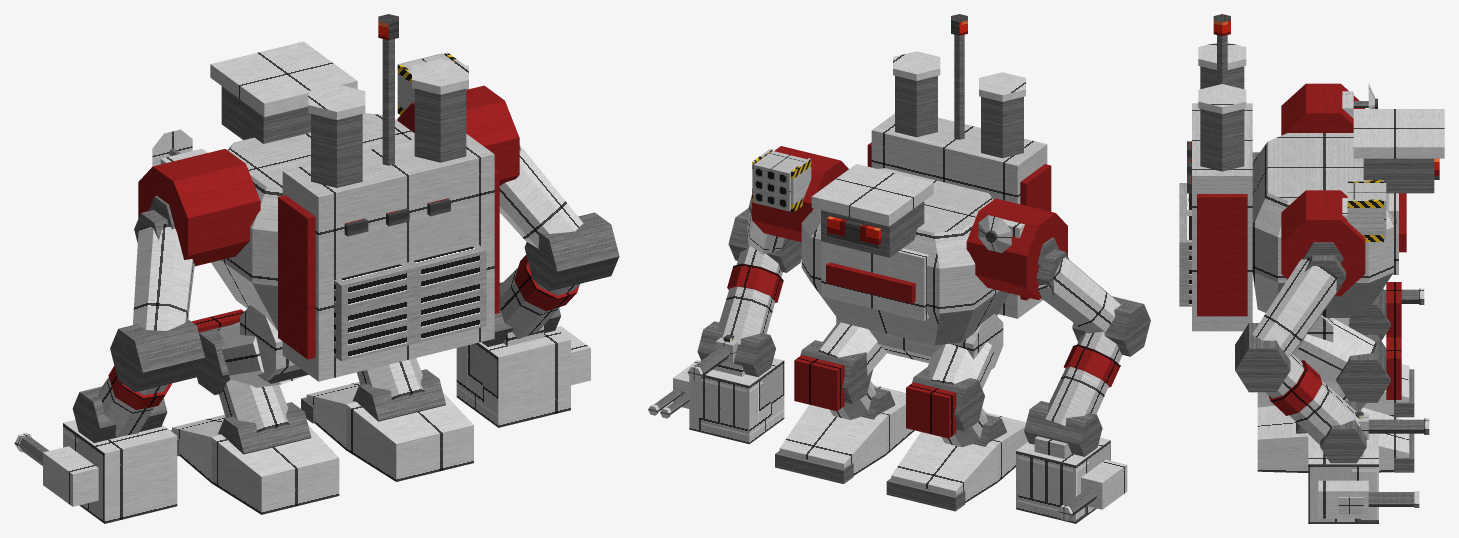
File: baboon.glb
The picture shows the model from 3 angles, left to right: view 1: azimuth 30°, elevation 25°; view 2: azimuth 150°, elevation 25°; view 3: azimuth 270°, elevation 25°; orthographic projection. The views are drawn at different scales.
Parts seen in each view (by area): view 1: rack.001, vent_block, foot, foot.001, pauldron, torso, brow, rack_stripe, upper_arm, fist_wrist, fist_wrist.001, elbow (+31 smaller); view 2: torso, rack.001, foot, foot.001, pauldron, brow, chest_plate, fist_front.001, upper_arm, fist_front, forearm, forearm.001 (+40 smaller); view 3: torso, rack_stripe.001, pauldron.001, rack.001, brow, upper_arm.001, foot.001, pauldron, elbow.001, flare_pod.001, forearm.001, thigh.001 (+29 smaller).
Part boxes in pixels (x1=…): rack.001: x1=282, y1=134, x2=494, y2=381; vent_block: x1=334, y1=245, x2=486, y2=361; foot: x1=172, y1=414, x2=339, y2=514; foot.001: x1=306, y1=382, x2=473, y2=481; pauldron: x1=138, y1=149, x2=260, y2=266; torso: x1=211, y1=113, x2=414, y2=330; brow: x1=210, y1=41, x2=357, y2=116; rack_stripe: x1=278, y1=195, x2=315, y2=359; upper_arm: x1=133, y1=224, x2=194, y2=330; fist_wrist: x1=104, y1=436, x2=177, y2=523; fist_wrist.001: x1=498, y1=340, x2=570, y2=427; elbow: x1=110, y1=318, x2=204, y2=392; torso: x1=801, y1=168, x2=1009, y2=345; rack.001: x1=871, y1=113, x2=1047, y2=318; foot: x1=891, y1=412, x2=1028, y2=502; foot.001: x1=779, y1=385, x2=914, y2=475; pauldron: x1=966, y1=198, x2=1067, y2=300; brow: x1=811, y1=164, x2=933, y2=226; chest_plate: x1=821, y1=241, x2=928, y2=321; fist_front.001: x1=689, y1=375, x2=749, y2=443; upper_arm: x1=1037, y1=257, x2=1120, y2=333; fist_front: x1=1016, y1=451, x2=1075, y2=523; forearm: x1=1045, y1=331, x2=1122, y2=425; forearm.001: x1=718, y1=245, x2=782, y2=344; torso: x1=1252, y1=133, x2=1393, y2=317; rack_stripe.001: x1=1197, y1=194, x2=1247, y2=316; pauldron.001: x1=1281, y1=190, x2=1365, y2=296; rack.001: x1=1192, y1=103, x2=1252, y2=331; brow: x1=1353, y1=109, x2=1444, y2=158; upper_arm.001: x1=1252, y1=257, x2=1343, y2=357; foot.001: x1=1257, y1=405, x2=1409, y2=472; pauldron: x1=1281, y1=83, x2=1365, y2=135; elbow.001: x1=1235, y1=323, x2=1290, y2=392; flare_pod.001: x1=1200, y1=109, x2=1244, y2=171; forearm.001: x1=1266, y1=354, x2=1359, y2=444; thigh.001: x1=1295, y1=318, x2=1376, y2=383.
Bounding box in the file's own units: 100 × 89.5 × 52.5.
14 materials, 14 textured.
